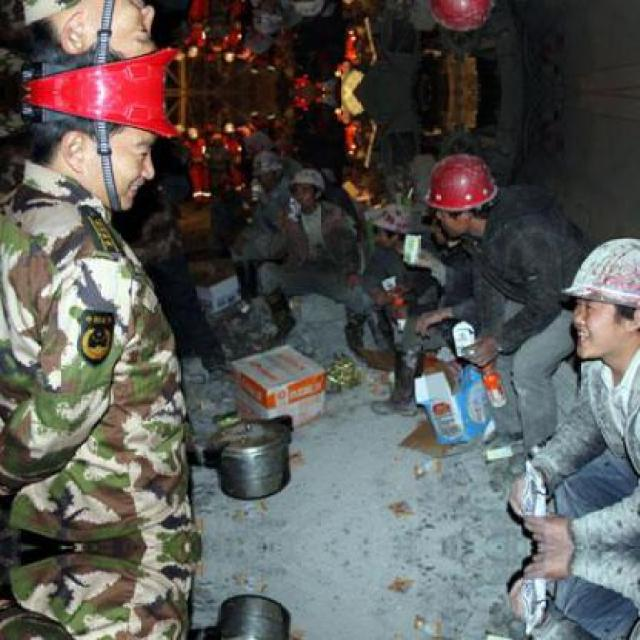helmet: (24, 96, 176, 200), (24, 0, 177, 89), (564, 227, 638, 364), (421, 152, 499, 240), (420, 0, 500, 32), (287, 164, 328, 218), (366, 204, 412, 251), (251, 147, 284, 190), (250, 0, 284, 39), (286, 0, 329, 22)
